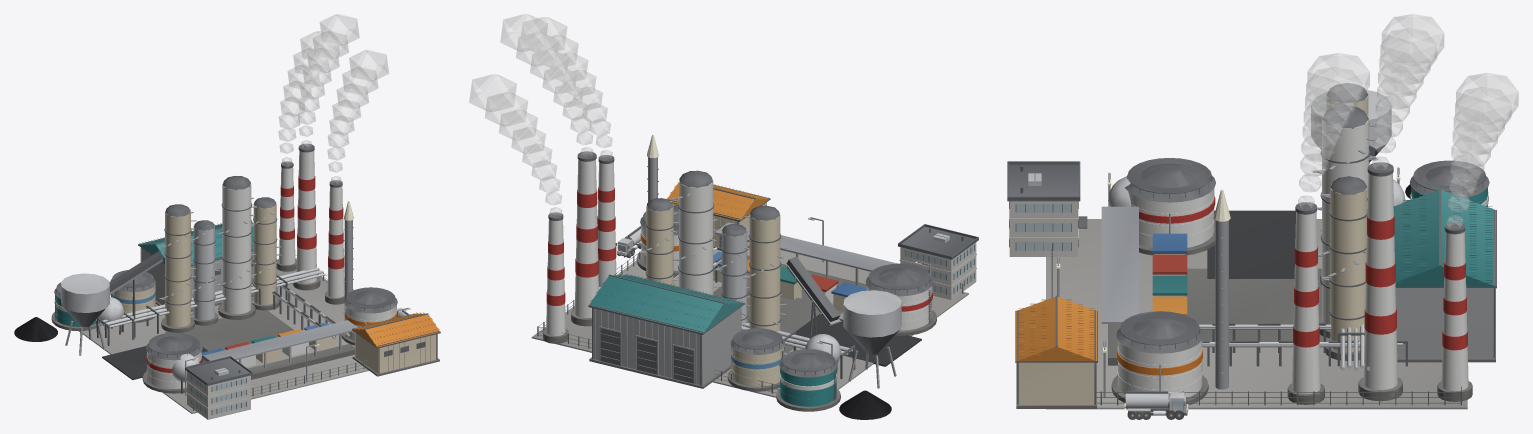
File: Refinery_P3.fbx
3 renders of one model, left to right at view 1: azimuth 30°, elevation 25°; view 2: azimuth 150°, elevation 25°; view 3: azimuth 270°, elevation 25°, orthographic. The views are drawn at different scales.
Visible parts, largest first — view 1: Refinery.Pad, Refinery.Col2, Refinery.Shed, Refinery.Col0, Refinery.Office, Refinery.Smoke0, Refinery.Smoke1, Refinery.Bay, Refinery.Smoke2, Refinery.Col3, Refinery.Stack0, Refinery.Col1 (+17 smaller); view 2: Refinery.Hall, Refinery.Pad, Refinery.Smoke2, Refinery.Smoke0, Refinery.Col2, Refinery.Col0, Refinery.Office, Refinery.Stack0, Refinery.Smoke1, Refinery.Tank1, Refinery.Intake, Refinery.Tank0 (+16 smaller); view 3: Refinery.Pad, Refinery.Hall, Refinery.Shed, Refinery.Stack0, Refinery.Tank3, Refinery.Office, Refinery.Tank0, Refinery.Col3, Refinery.Smoke0, Refinery.Smoke1, Refinery.Smoke2, Refinery.Stack1 (+14 smaller).
Part boxes in pixels (left/top/right/bottom): Refinery.Pad: left=79, top=268, right=368, bottom=413; Refinery.Col2: left=216, top=176, right=256, bottom=319; Refinery.Shed: left=352, top=312, right=440, bottom=376; Refinery.Col0: left=159, top=204, right=196, bottom=332; Refinery.Office: left=185, top=356, right=252, bottom=419; Refinery.Smoke0: left=298, top=14, right=359, bottom=147; Refinery.Smoke1: left=327, top=50, right=388, bottom=183; Refinery.Bay: left=203, top=320, right=366, bottom=379; Refinery.Smoke2: left=278, top=31, right=339, bottom=164; Refinery.Col3: left=251, top=197, right=281, bottom=310; Refinery.Stack0: left=293, top=143, right=320, bottom=290; Refinery.Col1: left=191, top=220, right=220, bottom=325; Refinery.Hall: left=588, top=273, right=744, bottom=388; Refinery.Pad: left=531, top=249, right=968, bottom=397; Refinery.Smoke2: left=469, top=74, right=561, bottom=216; Refinery.Smoke0: left=500, top=14, right=593, bottom=156; Refinery.Col2: left=672, top=170, right=720, bottom=294; Refinery.Col0: left=743, top=205, right=787, bottom=351; Refinery.Office: left=898, top=224, right=978, bottom=299; Refinery.Stack0: left=571, top=151, right=598, bottom=326; Refinery.Smoke1: left=521, top=17, right=612, bottom=159; Refinery.Tank1: left=776, top=349, right=840, bottom=411; Refinery.Intake: left=843, top=290, right=901, bottom=388; Refinery.Tank0: left=865, top=263, right=936, bottom=335; Refinery.Pad: left=1046, top=210, right=1467, bottom=409; Refinery.Hall: left=1393, top=188, right=1496, bottom=362; Refinery.Shed: left=1015, top=295, right=1097, bottom=408; Refinery.Stack0: left=1358, top=162, right=1402, bottom=401; Refinery.Tank3: left=1111, top=311, right=1208, bottom=405; Refinery.Office: left=1007, top=161, right=1087, bottom=256; Refinery.Tank0: left=1124, top=158, right=1215, bottom=255; Refinery.Col3: left=1321, top=176, right=1367, bottom=360; Refinery.Smoke0: left=1372, top=14, right=1443, bottom=169; Refinery.Smoke1: left=1298, top=53, right=1369, bottom=208; Refinery.Smoke2: left=1447, top=73, right=1518, bottom=228; Refinery.Stack1: left=1287, top=202, right=1324, bottom=404.
Bounding box in the file's own units: 10255 × 7366 × 8250.
